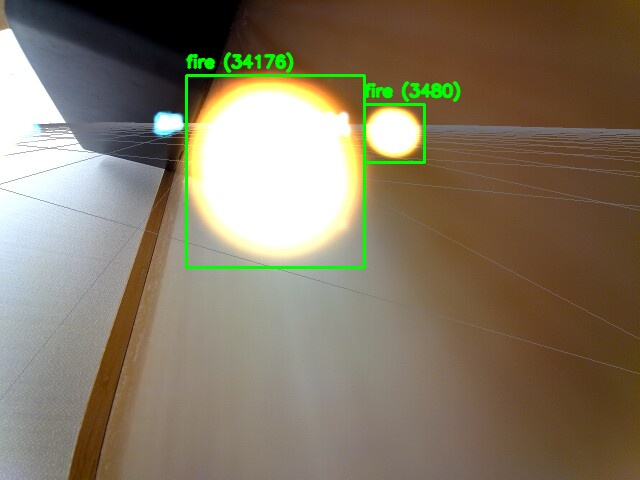fire: (186, 75, 364, 267), (364, 104, 424, 162)
